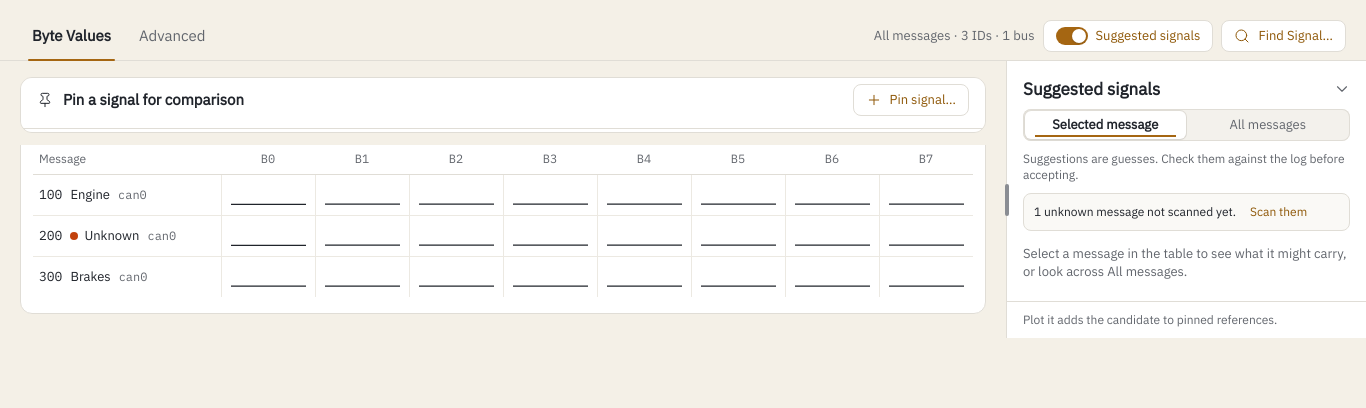
Test: Byte Values › offers Open in Advanced for a message picked without a byte, and clears it
The width and height of the screenshot is (1366, 408).
(page scrolled)
Click the button "100 Engine can0".
click(127, 195)  # box [39,180,215,210]
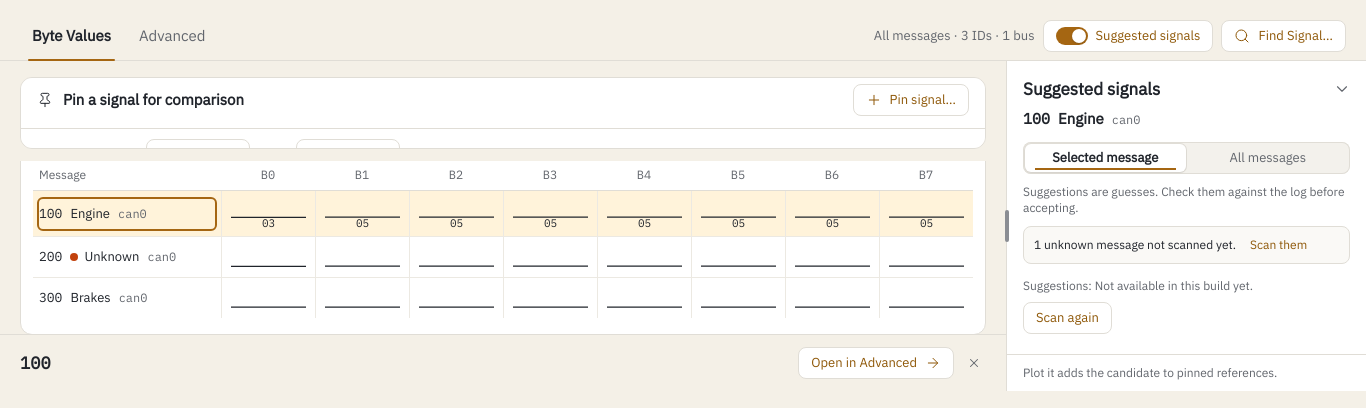
Now the button "Open in Advanced" is shown, box [798,347,954,379]
Click the button named "Clear selection".
click(974, 363)  # box [962,351,986,375]
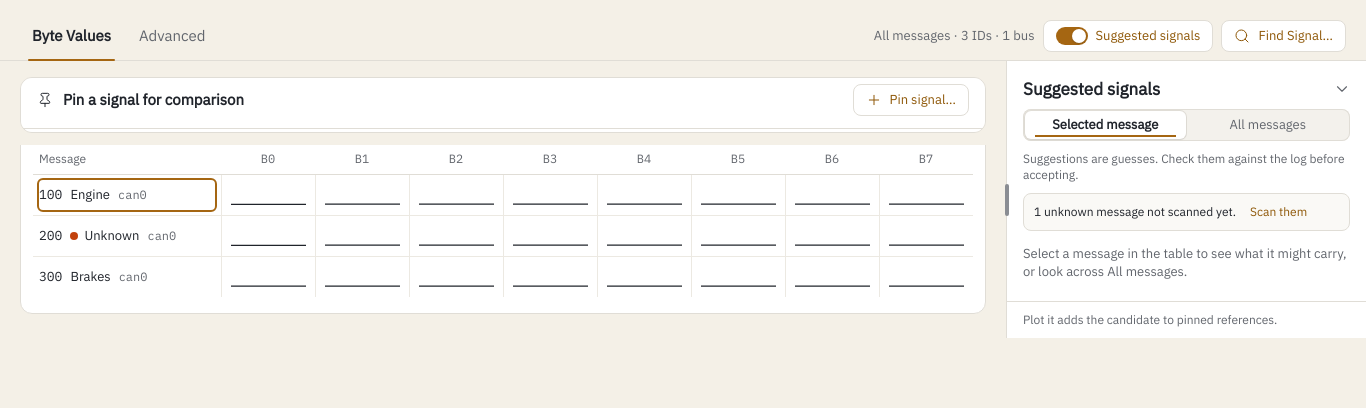
Now the button "Open in Advanced" is gone
